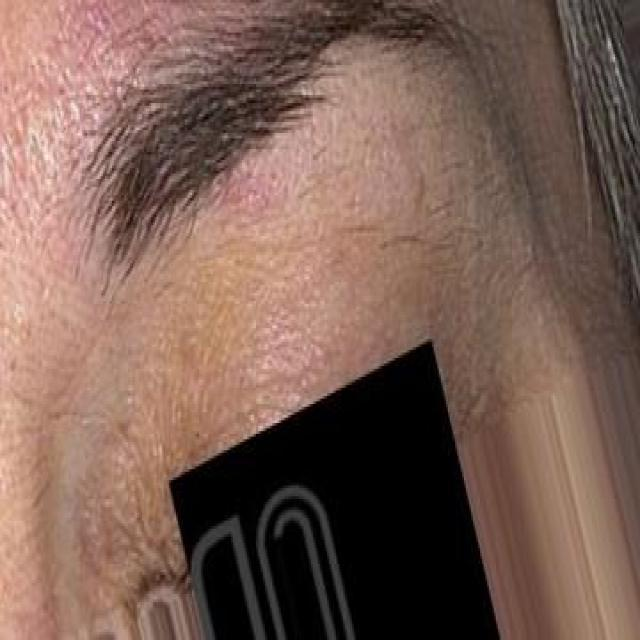Rosacea: (21, 1, 145, 256), (208, 152, 286, 225)
